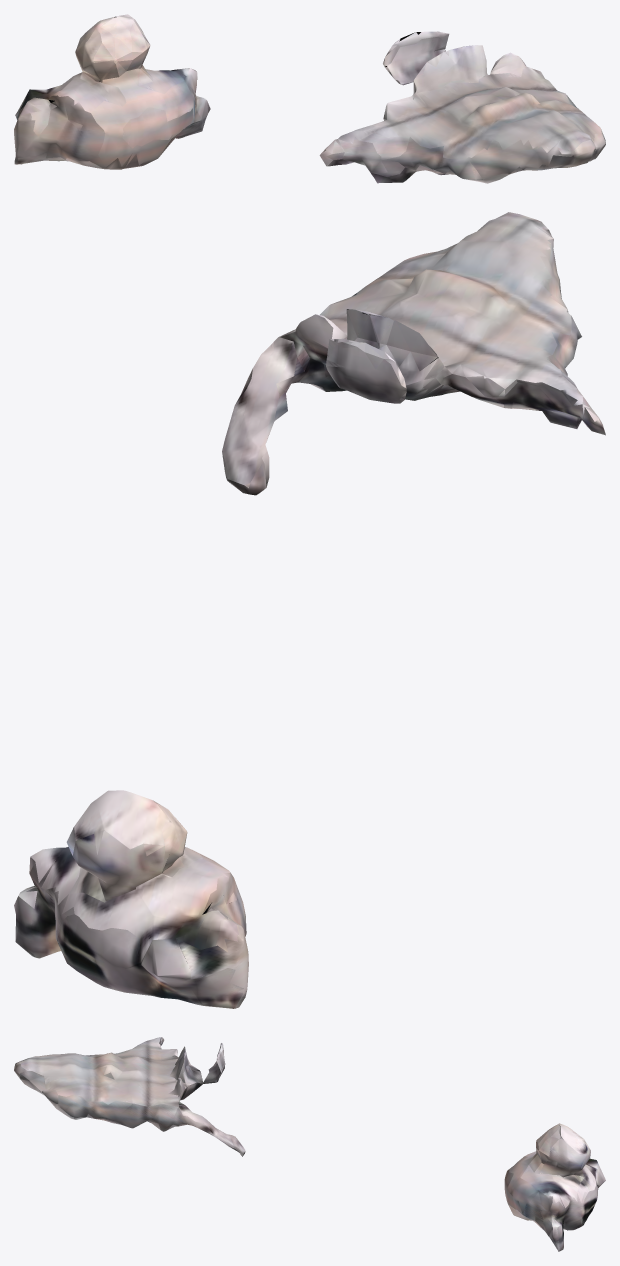
3 views of the same model, one above another, from view 1: azimuth 30°, elevation 25°; view 2: azimuth 150°, elevation 25°; view 3: azimuth 270°, elevation 25° (orthographic). The views are drawn at different scales.
Visible parts, largest first — view 1: world; view 2: world; view 3: world.
Boxes of the visible parts, x1,y1,x2,y2 form: world: [14, 14, 605, 183]; world: [14, 212, 605, 1008]; world: [14, 1037, 605, 1251].
Size of the model in its own units: 0.3165 by 0.3295 by 0.8763.
1 material, 1 textured.
